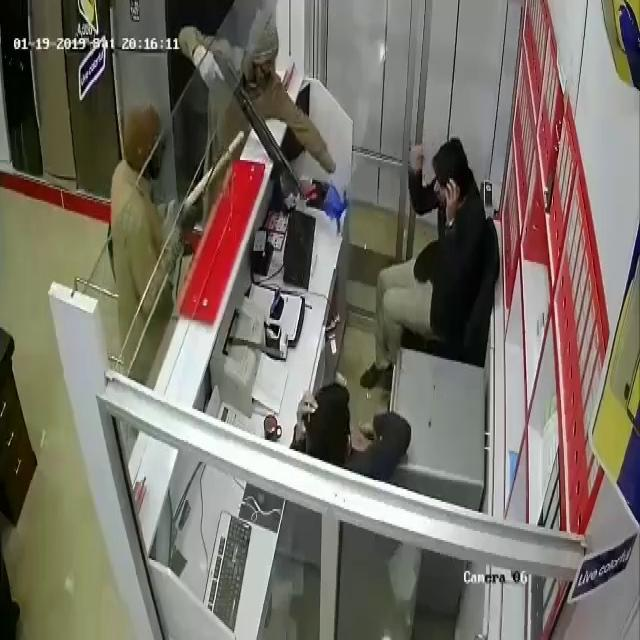weapon: (211, 44, 303, 202), (176, 129, 244, 224)
